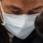with_mask: (1, 2, 43, 43)
